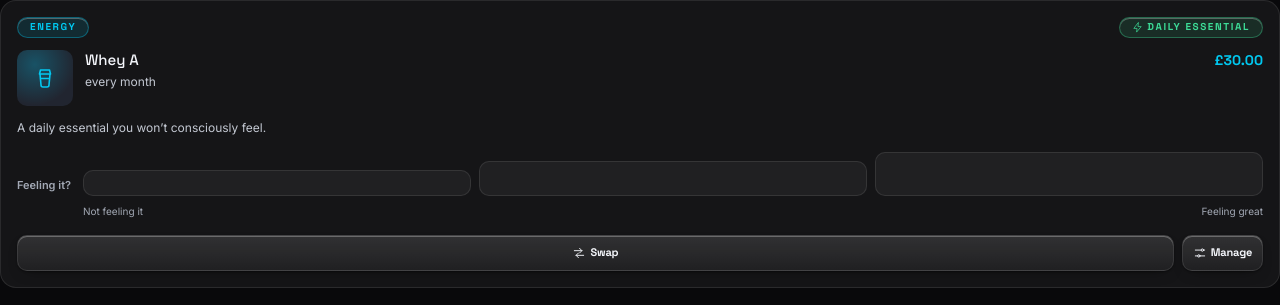
Scenario: StackItemCard › logs an inline rating on the 1–5 scale, without a single emoji
Click the radio button named "5 out of 5": [1069, 174] box [875,152,1263,196]
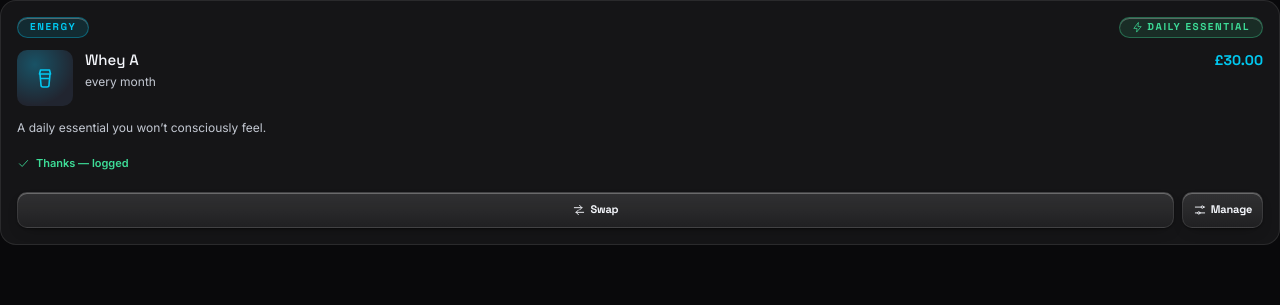
Check: the text "Thanks — logged" is shown, box [17,155,129,171]
